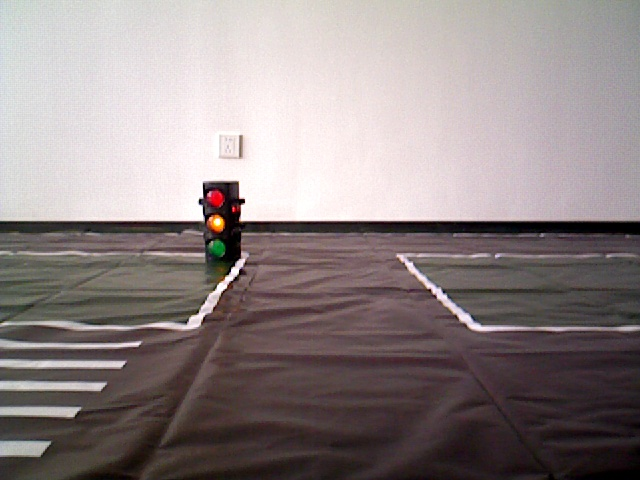yellow: (202, 180, 236, 261)
